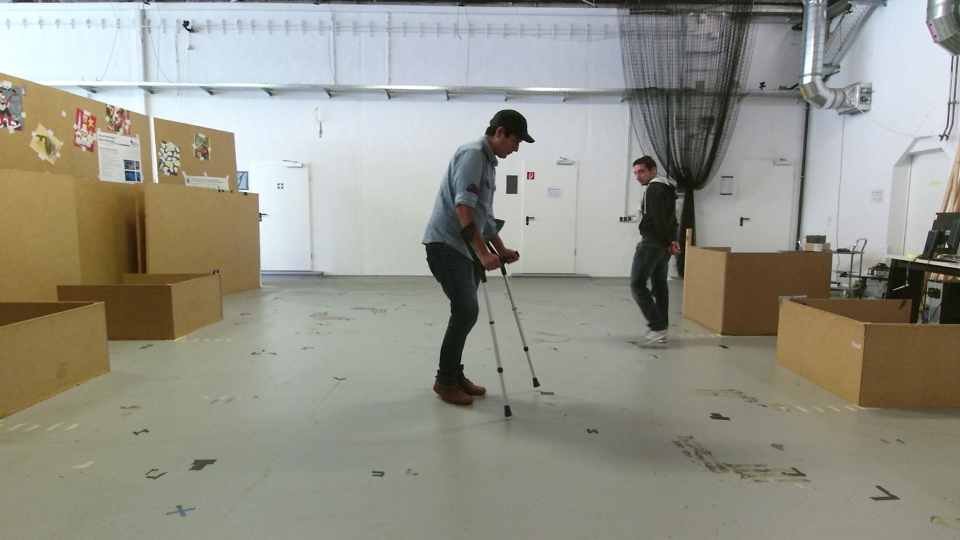crutches: (421, 107, 552, 416)
